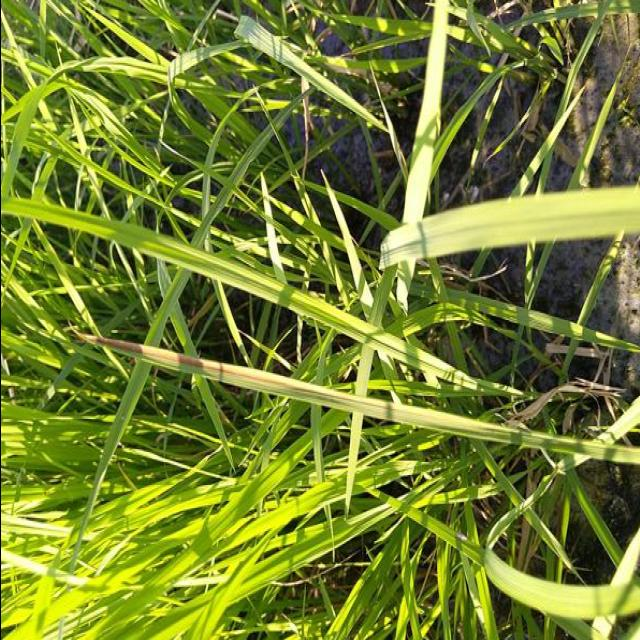Leaf Streak: (75, 334, 178, 365), (177, 354, 266, 385)
